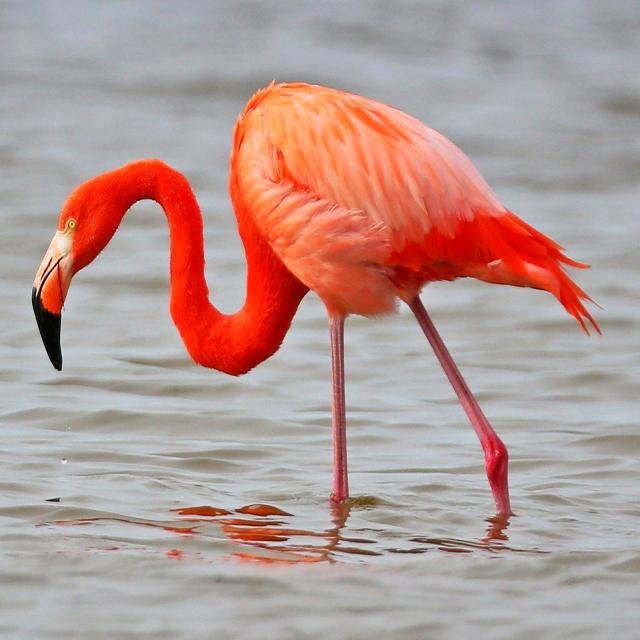flamingo: (32, 83, 600, 514)
